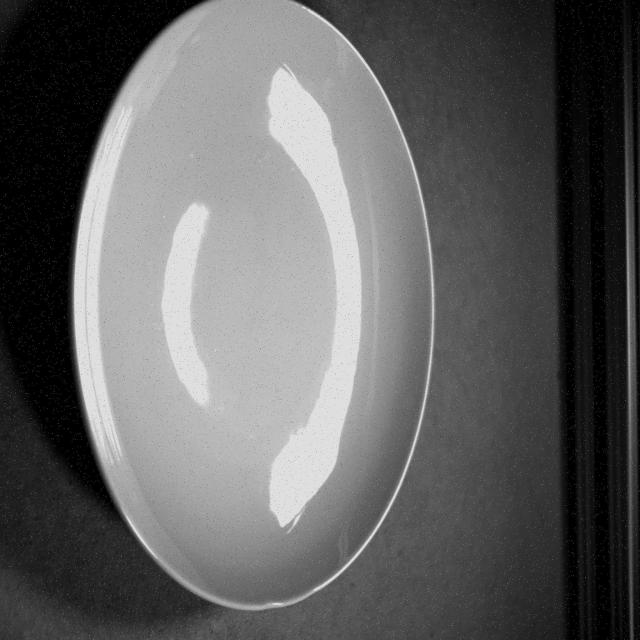plate: (61, 1, 448, 622)
